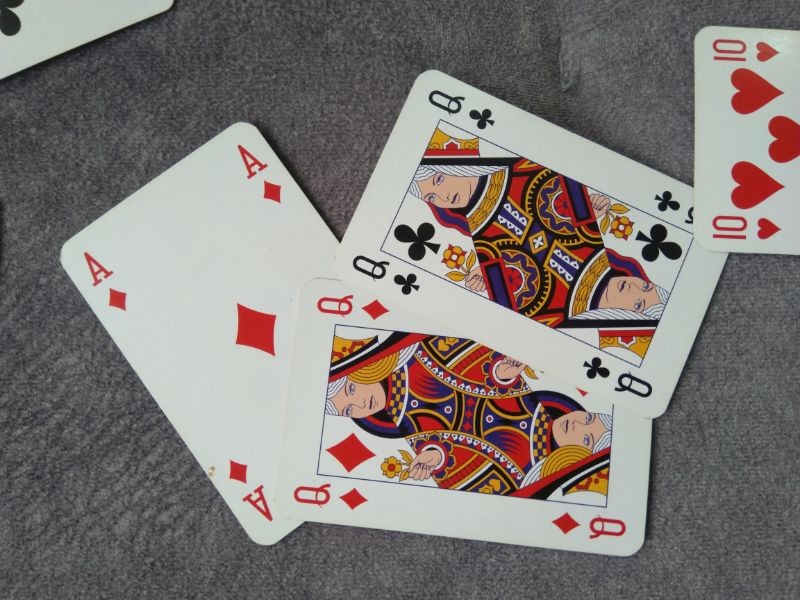Ad: (82, 247, 133, 319), (233, 140, 288, 206), (225, 456, 277, 524)
Qc: (581, 354, 657, 402), (347, 250, 422, 298), (427, 86, 500, 132)
Qd: (546, 509, 630, 543), (288, 480, 371, 511), (311, 293, 391, 325)
Th: (708, 211, 787, 245), (707, 37, 783, 65)
